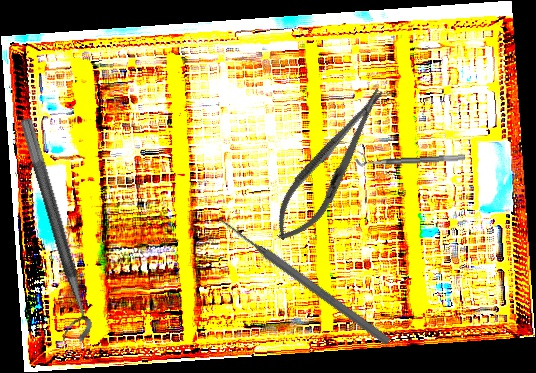Fixation Ring: (1, 117, 97, 347), (354, 145, 466, 167)
Needle Holder: (262, 78, 400, 252)
Pusher: (213, 211, 393, 348)
